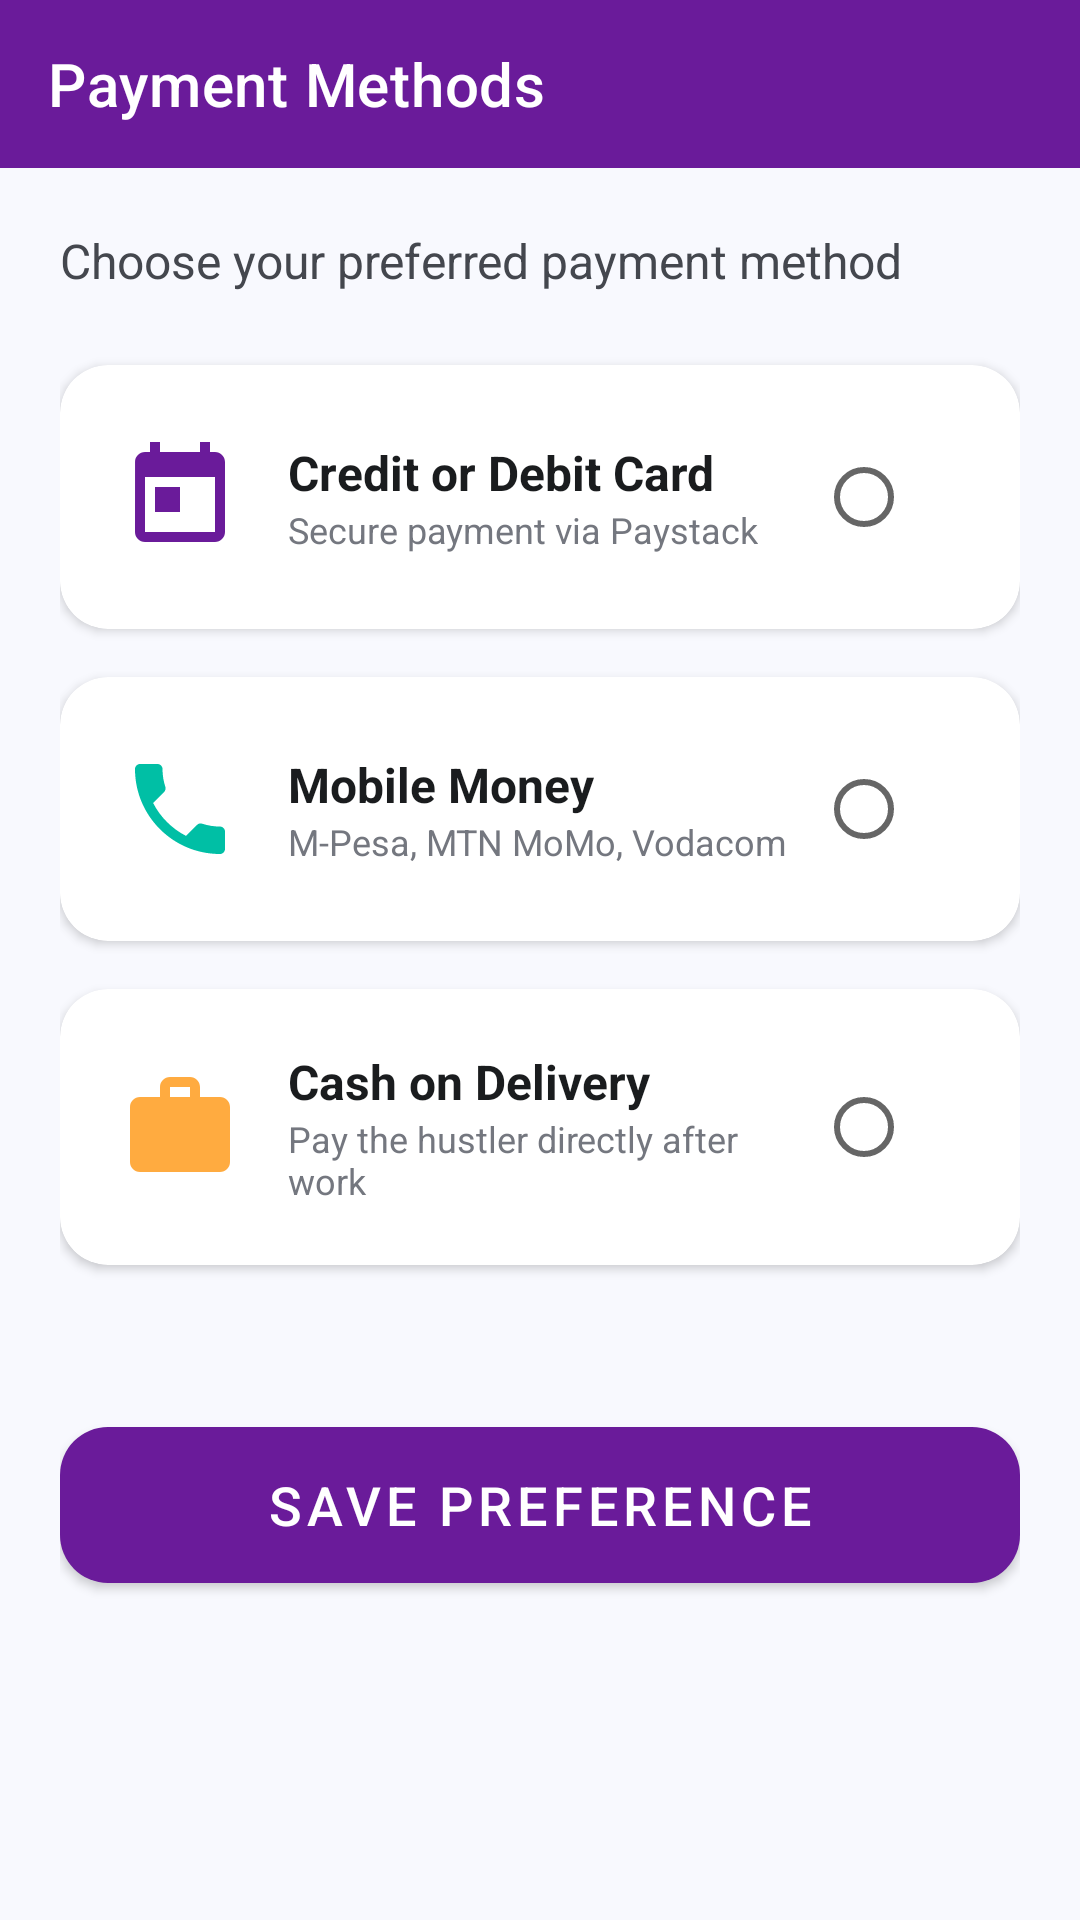

Where to tap for icons on this 1080w x 1920h app screen, as [x,y]:
phone: [180,809]
